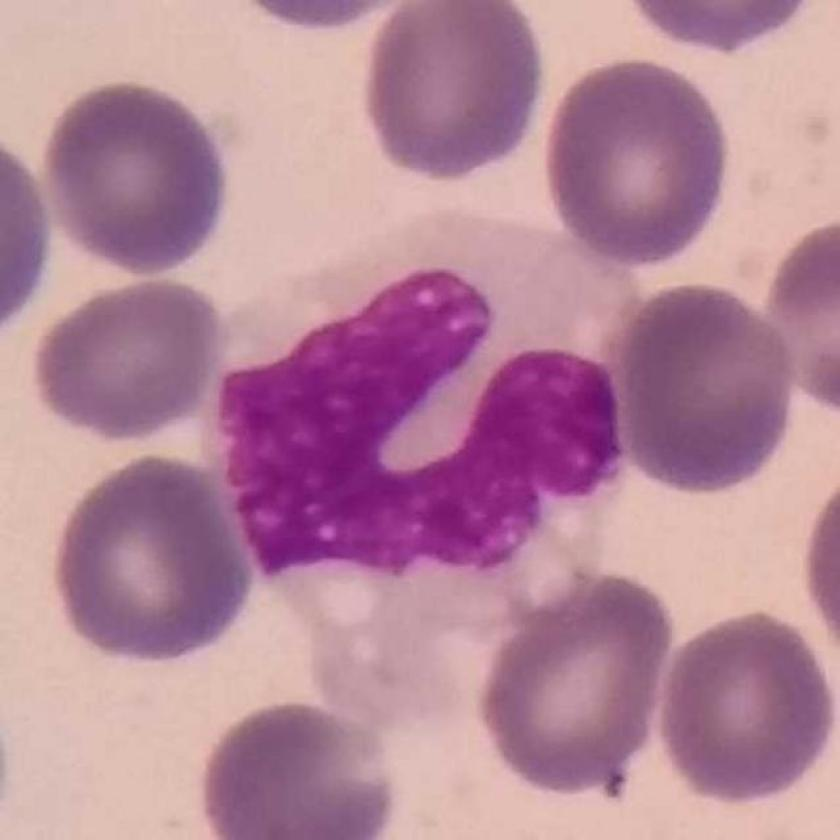monocyte: (206, 204, 649, 736)
